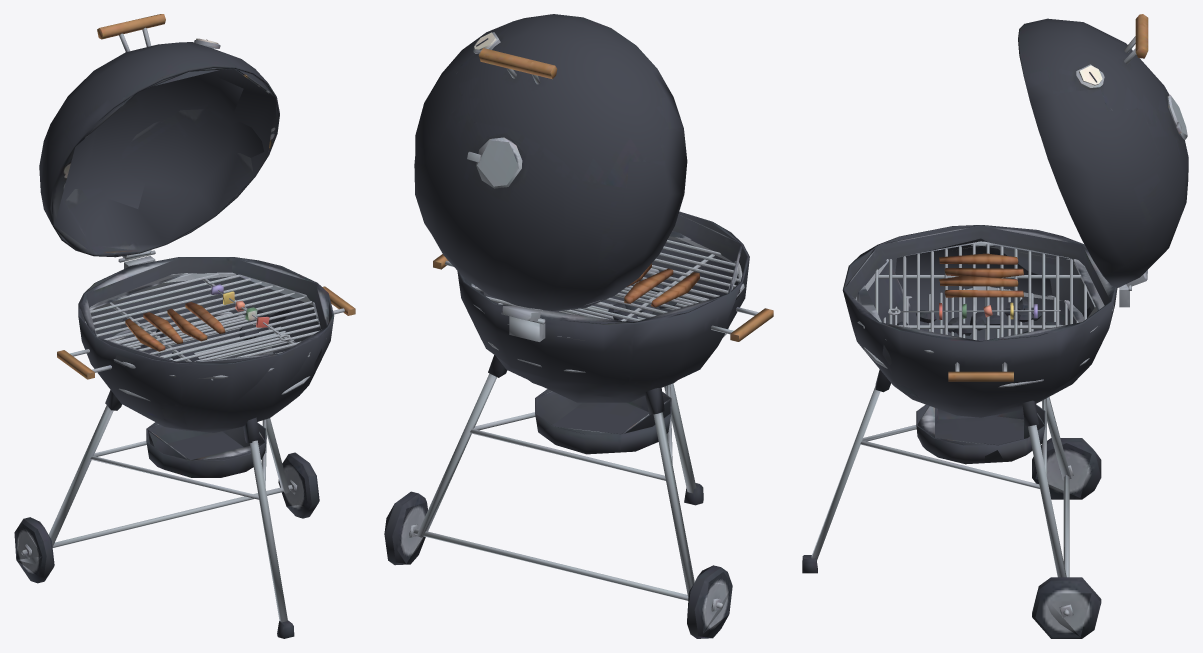
File: g3d_kettle_grill.glb
The picture shows the model from 3 angles, left to right: view 1: azimuth 30°, elevation 25°; view 2: azimuth 150°, elevation 25°; view 3: azimuth 270°, elevation 25°; orthographic projection. The views are drawn at different scales.
Visible parts, largest first — view 1: kettle-grill_body, kettle-grill_lid_lo, kettle-grill_body_lo, kettle-grill_lid; view 2: kettle-grill_lid, kettle-grill_body, kettle-grill_body_lo, kettle-grill_lid_lo; view 3: kettle-grill_body, kettle-grill_lid, kettle-grill_body_lo, kettle-grill_lid_lo.
Part boxes in pixels (<box>): kettle-grill_body: <box>14,250,355,638</box>; kettle-grill_lid_lo: <box>44,14,277,257</box>; kettle-grill_body_lo: <box>17,258,328,564</box>; kettle-grill_lid: <box>39,14,279,260</box>; kettle-grill_lid: <box>414,14,687,320</box>; kettle-grill_body: <box>384,211,773,638</box>; kettle-grill_body_lo: <box>407,214,742,632</box>; kettle-grill_lid_lo: <box>467,32,687,320</box>; kettle-grill_body: <box>802,225,1131,638</box>; kettle-grill_lid: <box>1018,14,1188,287</box>; kettle-grill_body_lo: <box>845,225,1115,636</box>; kettle-grill_lid_lo: <box>1071,14,1187,285</box>.
Size of the model in its own units: 0.7534 by 1.25 by 0.8134.
2 materials, 2 textured.
